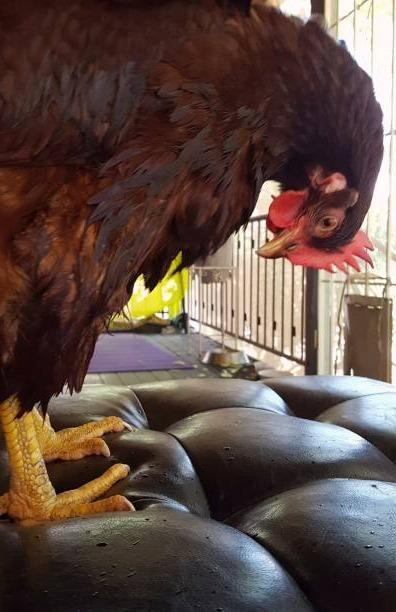AbNormal: (43, 5, 395, 346)
